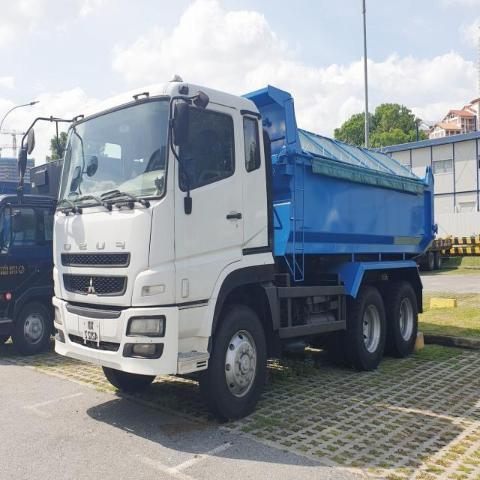truck: (18, 79, 438, 418)
